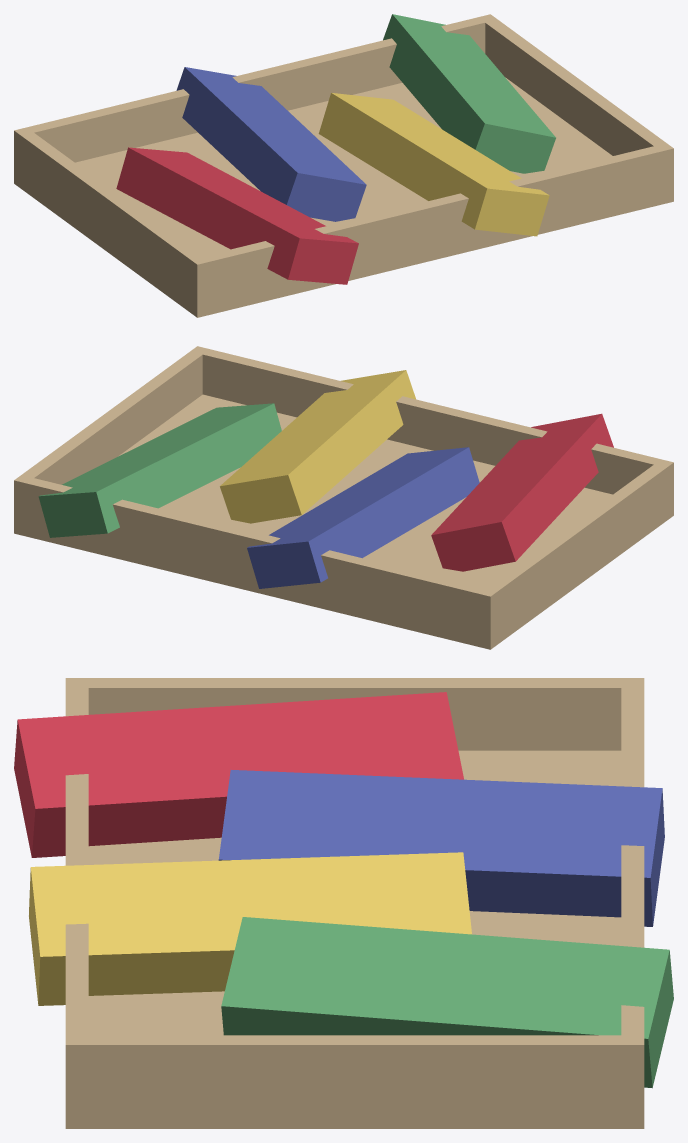
The model's file is prop-silk-floss-skeins.fbx.
3 renders of one model, top to bottom at view 1: azimuth 30°, elevation 25°; view 2: azimuth 150°, elevation 25°; view 3: azimuth 270°, elevation 25°, orthographic. The views are drawn at different scales.
Visible parts, largest first — view 1: prop-silk-floss-skeins; view 2: prop-silk-floss-skeins; view 3: prop-silk-floss-skeins.
Part boxes in pixels (x1,y1,x2,y2): prop-silk-floss-skeins: [14, 14, 673, 317]; prop-silk-floss-skeins: [14, 346, 673, 649]; prop-silk-floss-skeins: [14, 678, 673, 1128].
Bounding box in the file's own units: 15 × 2.09 × 11.4.
